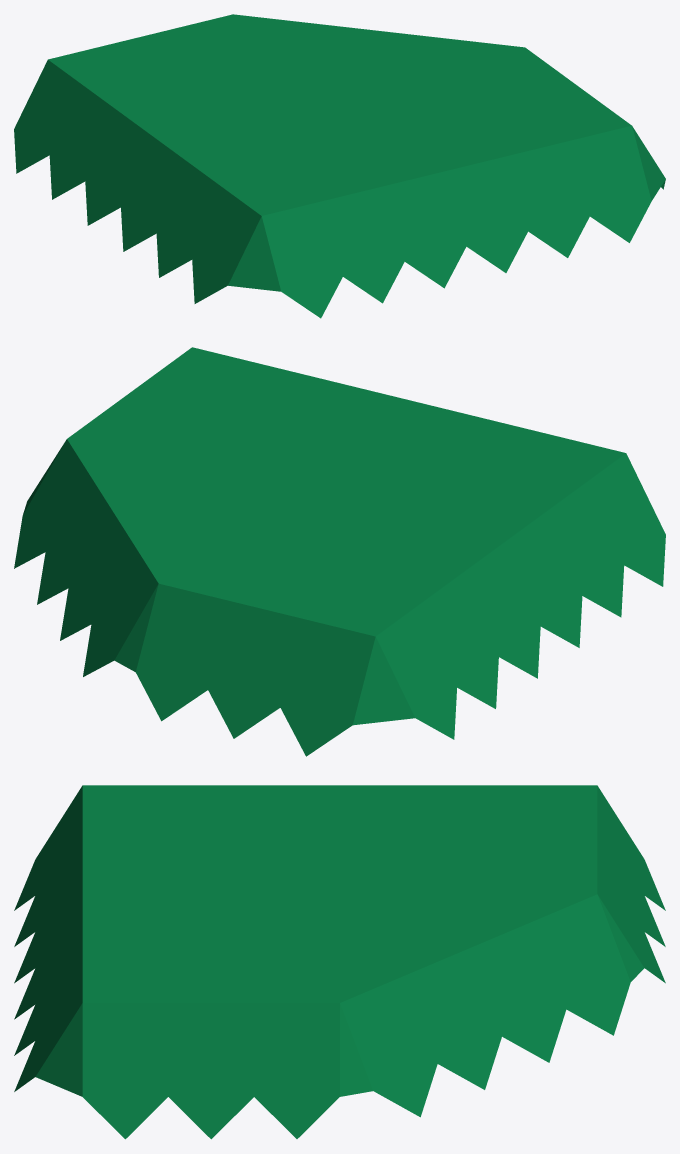
File: groundCornerSmallGrass.glb
The picture shows the model from 3 angles, top to bottom: view 1: azimuth 30°, elevation 25°; view 2: azimuth 150°, elevation 25°; view 3: azimuth 270°, elevation 25°; orthographic projection. The views are drawn at different scales.
Parts seen in each view (by area): view 1: groundCornerSmallGrass; view 2: groundCornerSmallGrass; view 3: groundCornerSmallGrass.
Part boxes in pixels (bbox=[...]): groundCornerSmallGrass: bbox=[14, 14, 665, 318]; groundCornerSmallGrass: bbox=[14, 347, 665, 756]; groundCornerSmallGrass: bbox=[14, 785, 665, 1139].
Bounding box in the file's own units: 1.27 × 0.2304 × 1.27.
